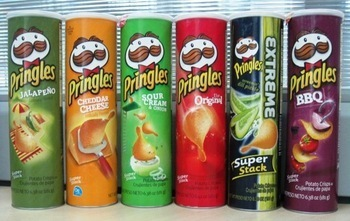pringle: (174, 12, 228, 211)
